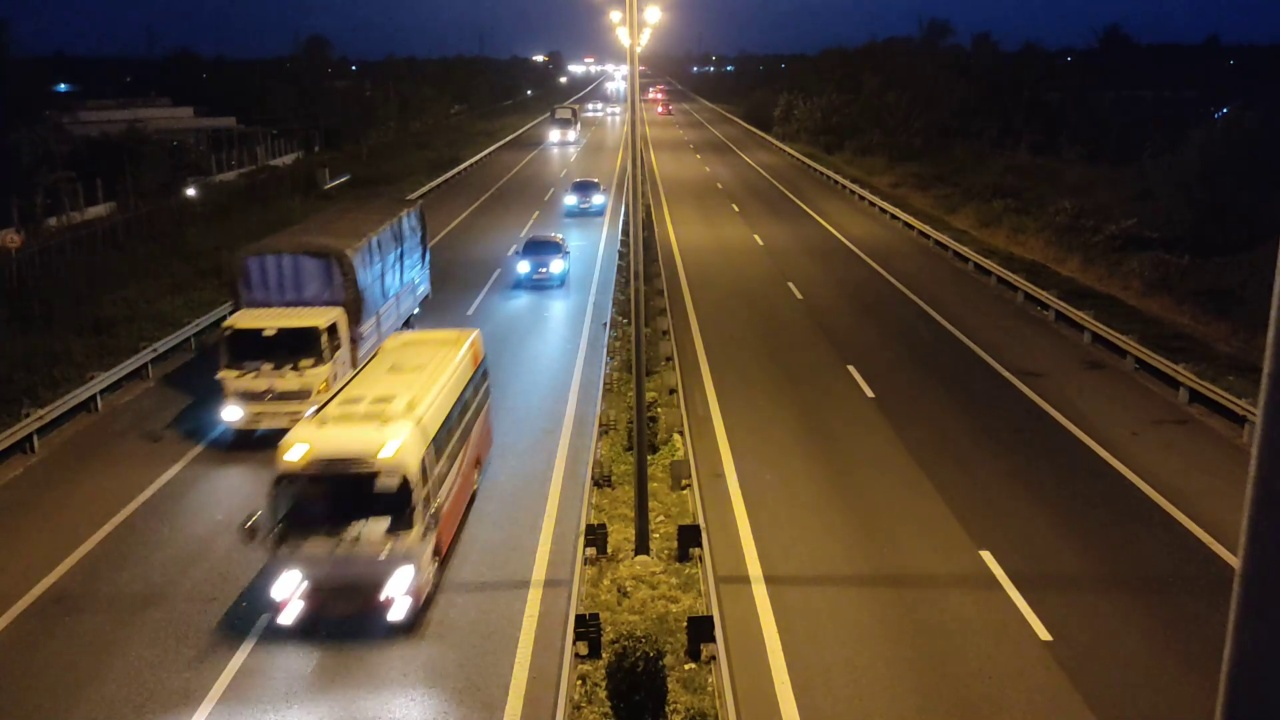bus: (255, 327, 495, 637)
car: (508, 233, 572, 289), (562, 177, 607, 215)
truck: (215, 194, 433, 445)
